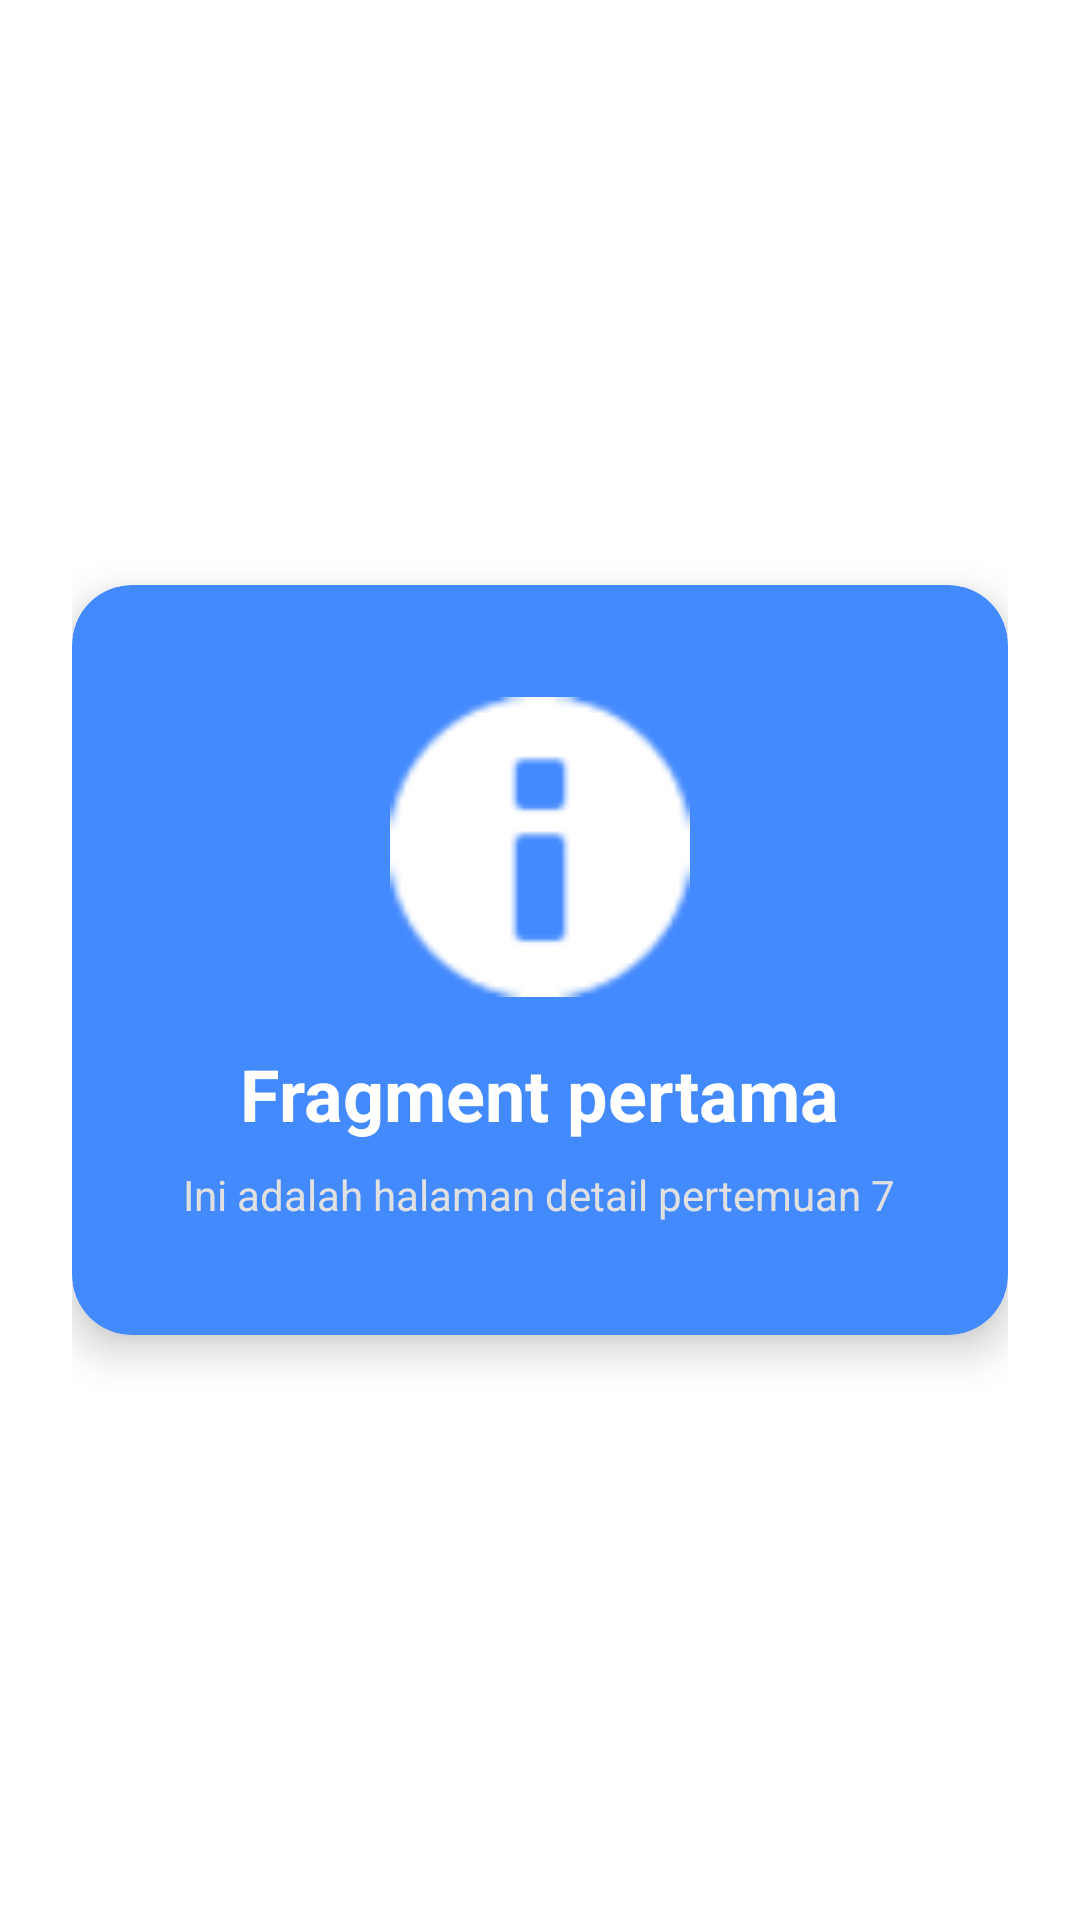

Icon click points for this 1080*1920 phone screenshot, format [x,y]:
info: [540,847]
